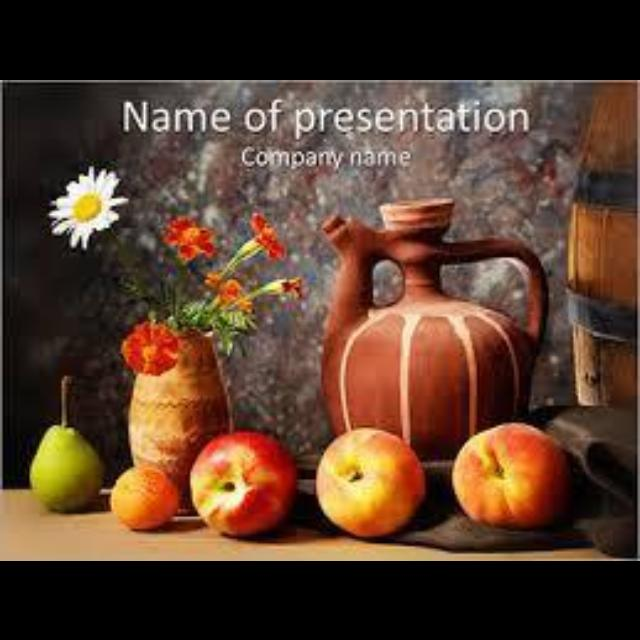apple: (190, 430, 294, 536)
